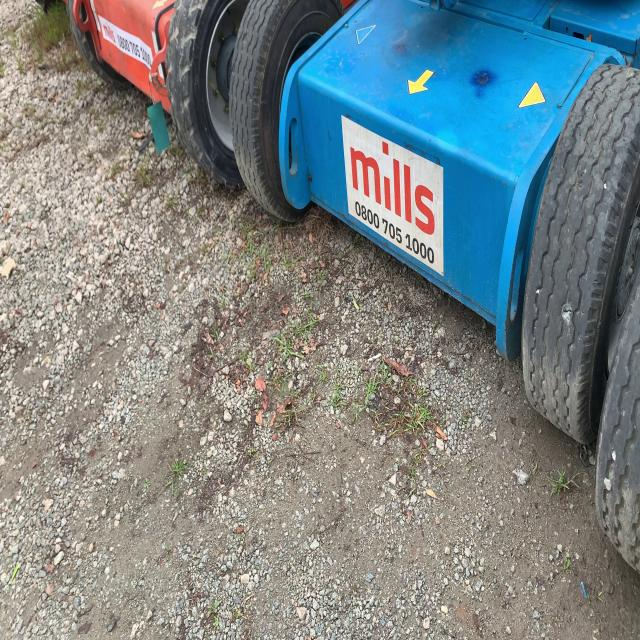Adesivos: (340, 111, 444, 282)
